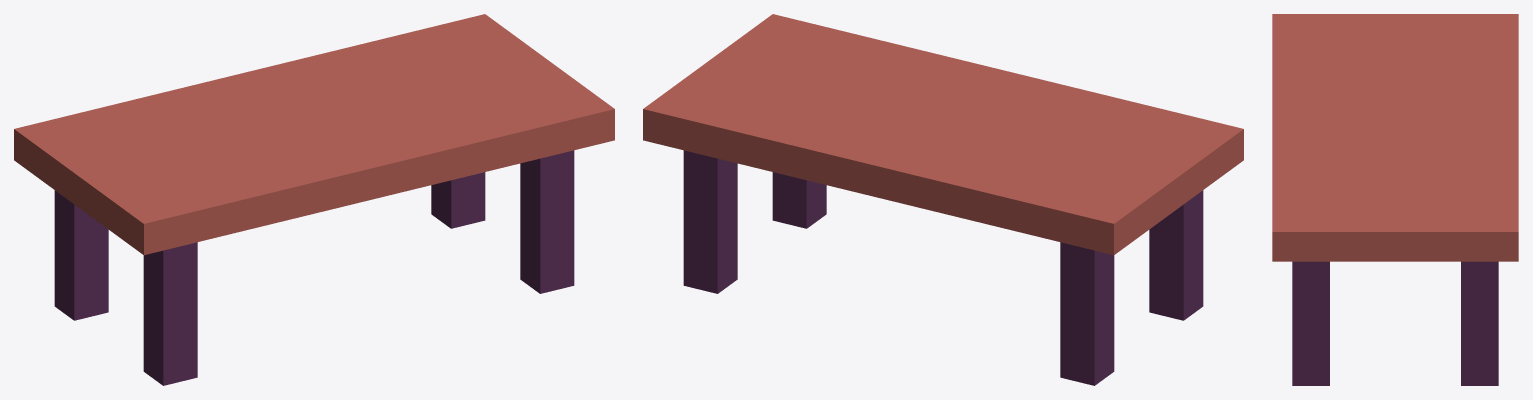
File: coffee-table.obj
3 renders of one model, left to right at view 1: azimuth 30°, elevation 25°; view 2: azimuth 150°, elevation 25°; view 3: azimuth 270°, elevation 25°, orthographic. The views are drawn at different scales.
Visible parts, largest first — view 1: cozy-table-top, chunky-leg-0-88-0-36; view 2: cozy-table-top, chunky-leg-0-88-0-36; view 3: cozy-table-top, chunky-leg-0-88-0-36.
Boxes of the visible parts, box(x1,y1,x2,y2) form: cozy-table-top: box(14, 14, 614, 255); chunky-leg-0-88-0-36: box(54, 150, 574, 385); cozy-table-top: box(643, 14, 1243, 255); chunky-leg-0-88-0-36: box(683, 150, 1203, 385); cozy-table-top: box(1272, 14, 1518, 261); chunky-leg-0-88-0-36: box(1292, 261, 1498, 385).
Bounding box in the file's own units: 2.2 × 0.79 × 1.05.
